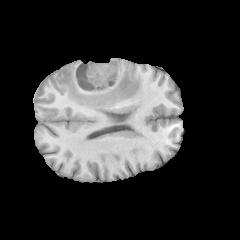glioma: (55, 60, 141, 111)
